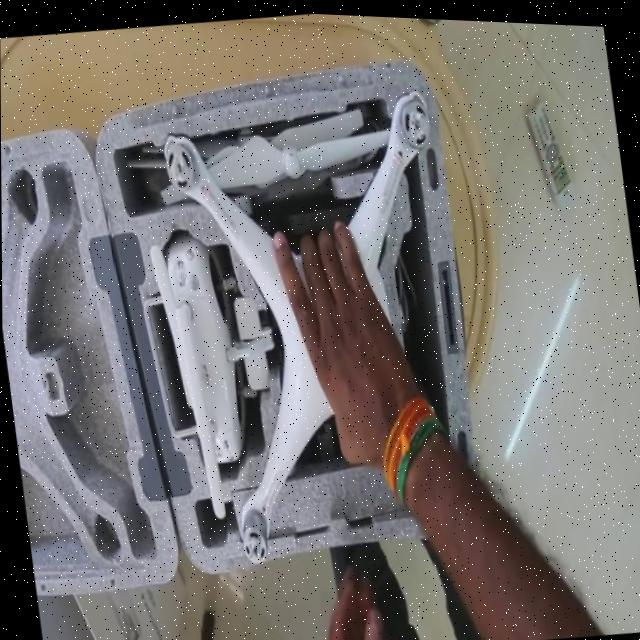drones: (107, 74, 486, 552)
